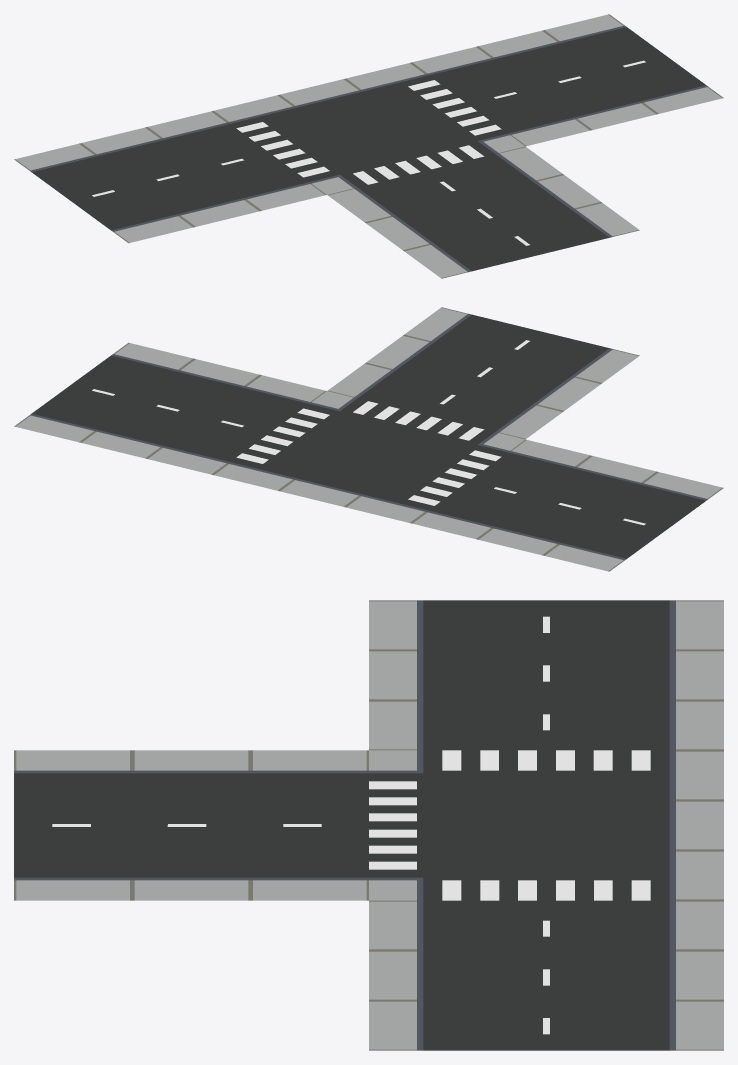
Rendered from road junction2.FBX.
The picture shows the model from 3 angles, top to bottom: view 1: azimuth 30°, elevation 25°; view 2: azimuth 150°, elevation 25°; view 3: azimuth 270°, elevation 25°; orthographic projection. The views are drawn at different scales.
Visible parts, largest first — view 1: road junction2; view 2: road junction2; view 3: road junction2.
Part boxes in pixels (bbox=[...]): road junction2: bbox=[14, 14, 723, 278]; road junction2: bbox=[14, 307, 723, 571]; road junction2: bbox=[14, 600, 723, 1050].
Size of the model in its own units: 60 by 8.03e-06 by 40.
